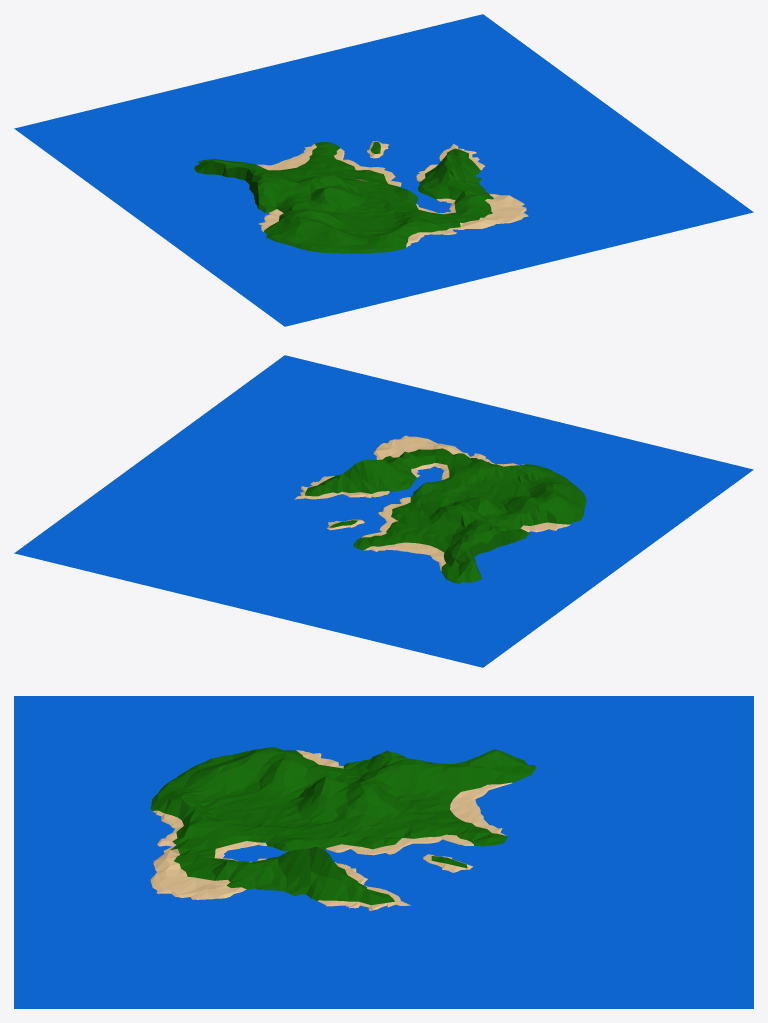
3 renders of one model, top to bottom at view 1: azimuth 30°, elevation 25°; view 2: azimuth 150°, elevation 25°; view 3: azimuth 270°, elevation 25°, orthographic. The views are drawn at different scales.
Parts seen in each view (by area): view 1: Plane, Merged; view 2: Plane, Merged; view 3: Plane, Merged.
Part boxes in pixels (x1,y1,x2,y2): Plane: (14,14,753,326); Merged: (194,141,528,253); Plane: (14,355,753,667); Merged: (294,435,586,583); Plane: (14,696,753,1008); Merged: (150,747,536,910).
Size of the model in its own units: 40000 by 2627 by 40000.
